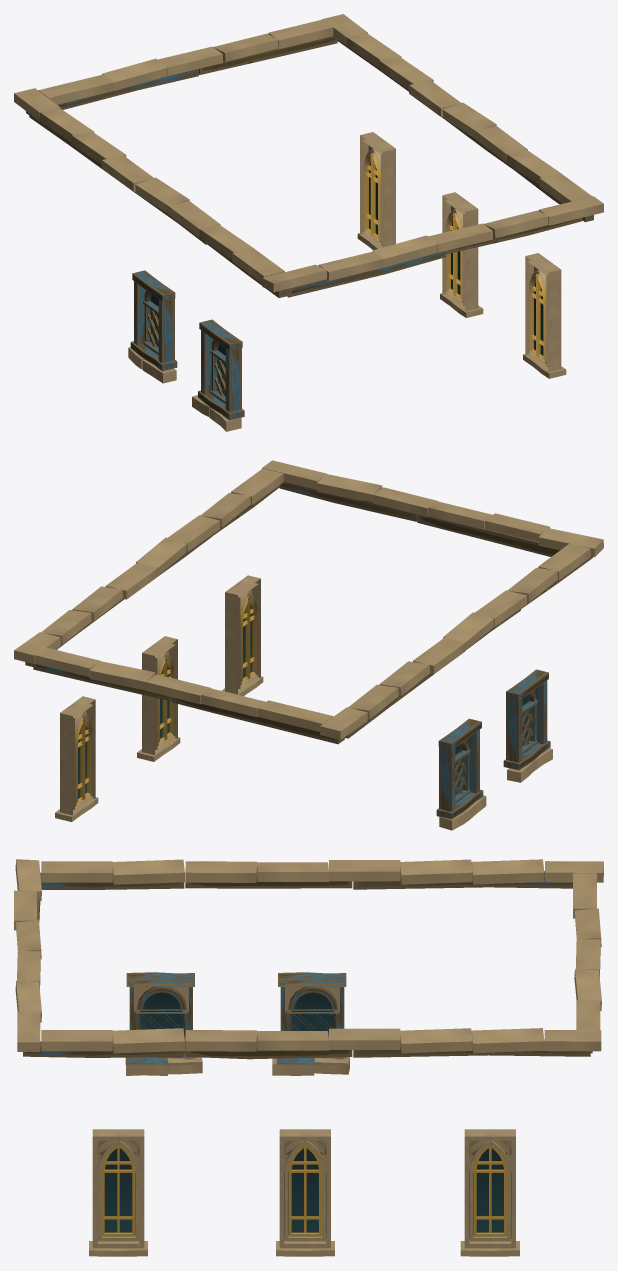
Rendered from A_Medium_BuildingBlock_B_KitPart.FBX.
The picture shows the model from 3 angles, top to bottom: view 1: azimuth 30°, elevation 25°; view 2: azimuth 150°, elevation 25°; view 3: azimuth 270°, elevation 25°; orthographic projection. The views are drawn at different scales.
Visible parts, largest first — view 1: A_Medium_BuildingBlock_B_KitPart; view 2: A_Medium_BuildingBlock_B_KitPart; view 3: A_Medium_BuildingBlock_B_KitPart.
Part boxes in pixels (x1,y1,x2,y2): A_Medium_BuildingBlock_B_KitPart: (14, 14, 603, 431); A_Medium_BuildingBlock_B_KitPart: (14, 460, 603, 830); A_Medium_BuildingBlock_B_KitPart: (14, 859, 603, 1256).
Bounding box in the file's own units: 543 × 304 × 741.
1 material, 1 textured.
